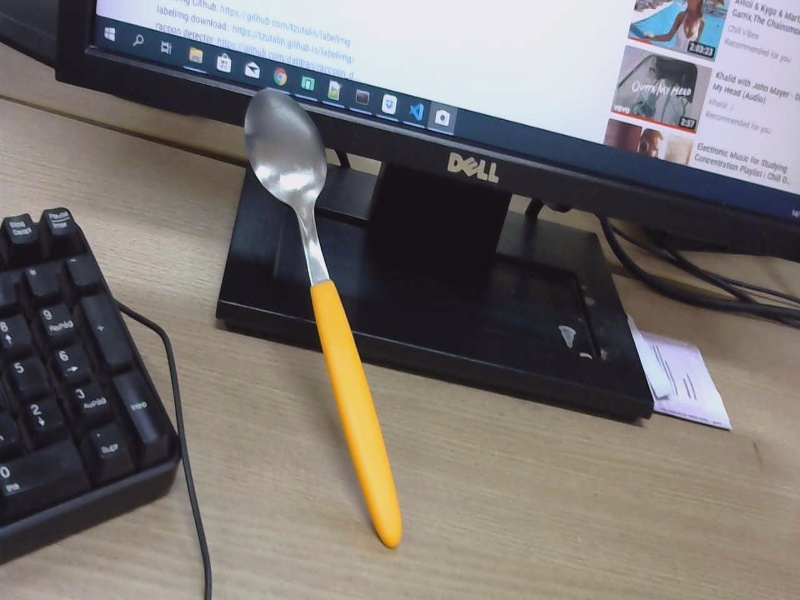cuchara: (228, 88, 469, 564)
